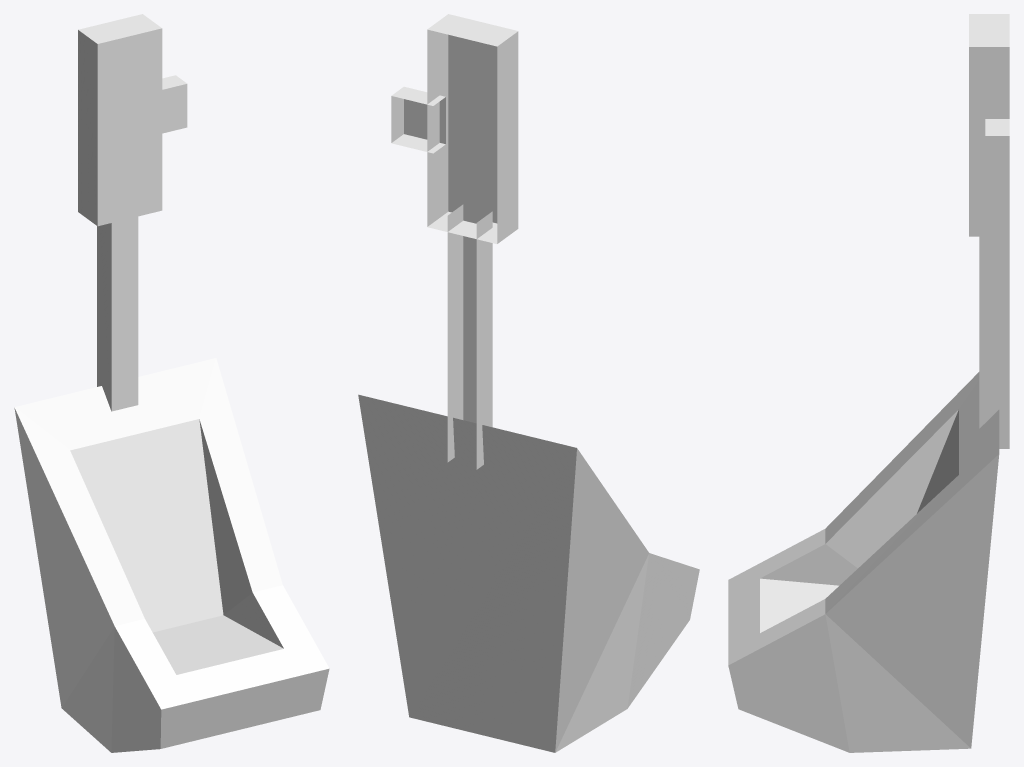
Rendered from urinal01.glb.
The picture shows the model from 3 angles, left to right: view 1: azimuth 30°, elevation 25°; view 2: azimuth 150°, elevation 25°; view 3: azimuth 270°, elevation 25°; orthographic projection. The views are drawn at different scales.
Visible parts, largest first — view 1: urinal; view 2: urinal; view 3: urinal.
Part boxes in pixels (box(x1,y1,x2,y2)): urinal: box(14, 14, 329, 752); urinal: box(358, 14, 699, 752); urinal: box(728, 14, 1009, 752).
Size of the model in its own units: 0.48 by 1.49 by 0.556.
Materials: 1 (1 with a texture image).
